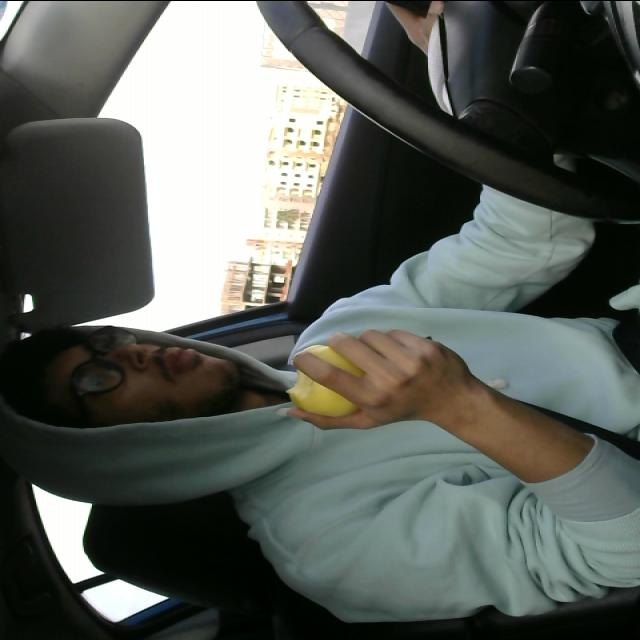eating: (276, 344, 370, 422)
